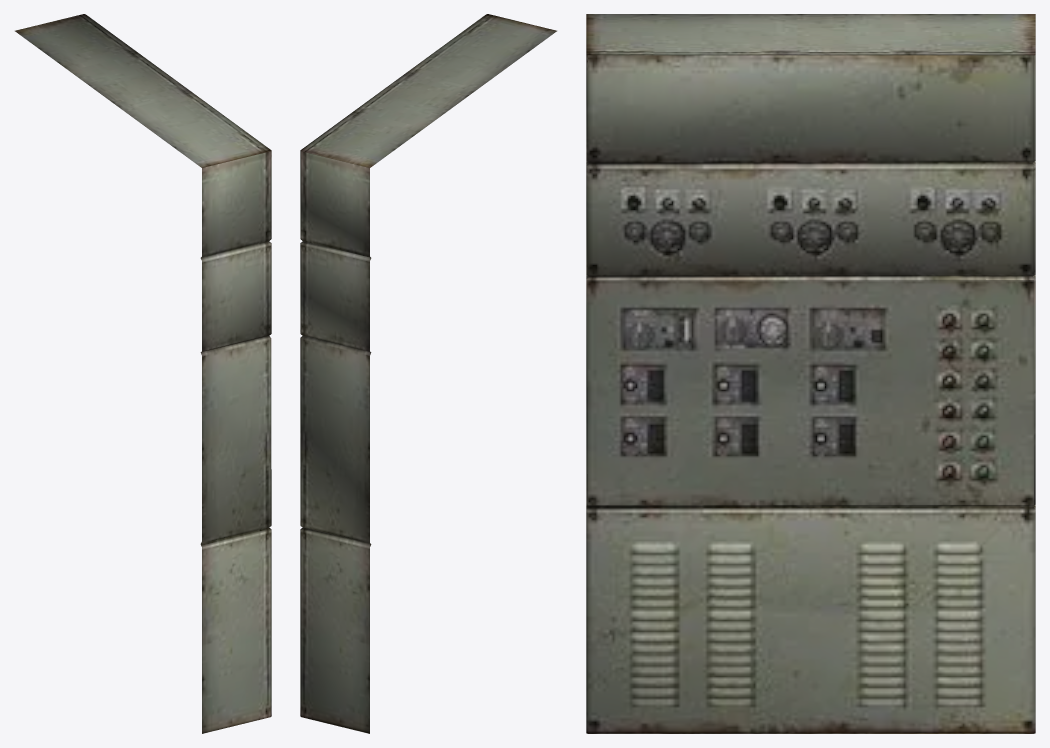
The model's file is wall_console3.glb.
3 renders of one model, left to right at view 1: azimuth 30°, elevation 25°; view 2: azimuth 150°, elevation 25°; view 3: azimuth 270°, elevation 25°, orthographic. The views are drawn at different scales.
Parts seen in each view (by area): view 1: 0_wall_console2; view 2: 0_wall_console2; view 3: 0_wall_console2.
Boxes of the visible parts, x1=… form: 0_wall_console2: x1=15, y1=14, x2=271, y2=733; 0_wall_console2: x1=300, y1=14, x2=556, y2=733; 0_wall_console2: x1=586, y1=14, x2=1035, y2=733.
Size of the model in its own units: 0.3168 by 2.43 by 1.46.
Materials: 1 (1 with a texture image).
